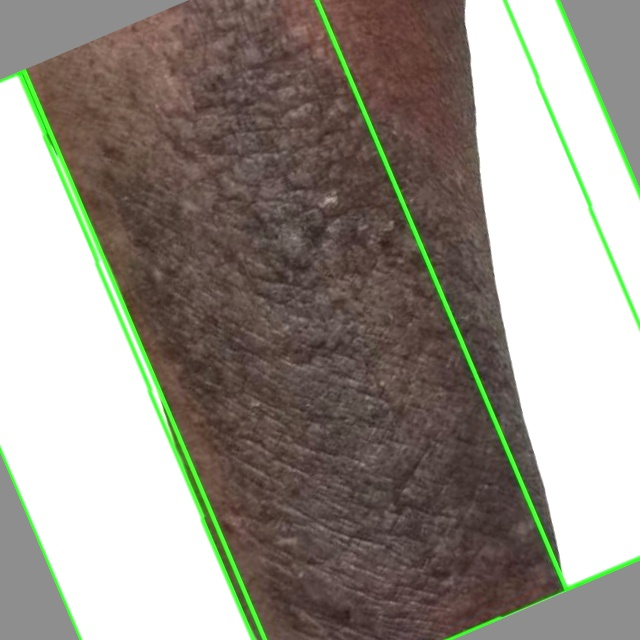Eczema: (18, 0, 639, 639), (318, 0, 639, 589), (0, 70, 264, 639)
